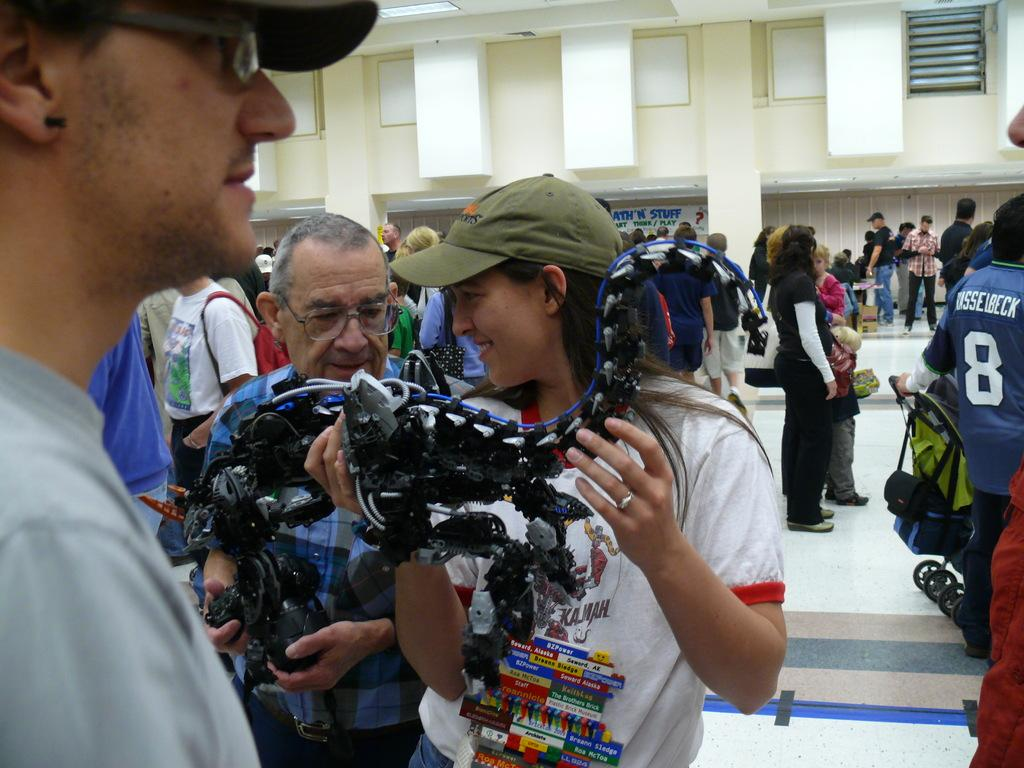Hat: (388, 166, 624, 290), (200, 0, 382, 78), (866, 214, 883, 225)
